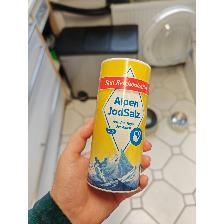Gewuerze: (85, 57, 153, 194)
